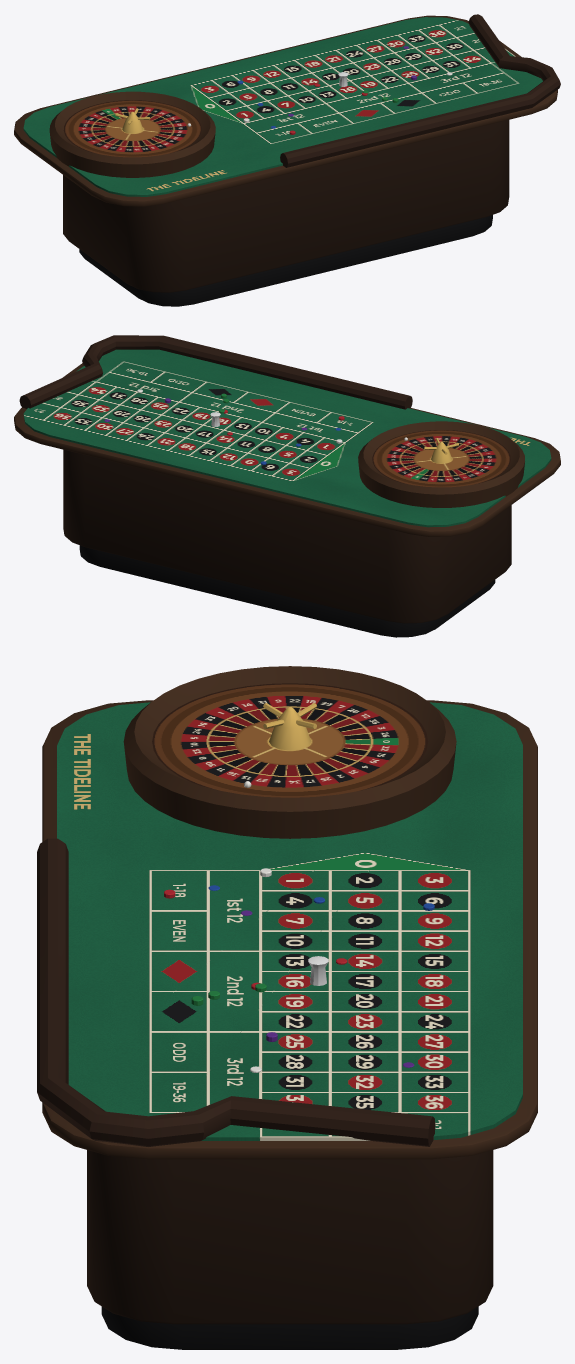
The model's file is tideline_roulette.glb.
The picture shows the model from 3 angles, top to bottom: view 1: azimuth 30°, elevation 25°; view 2: azimuth 150°, elevation 25°; view 3: azimuth 270°, elevation 25°; orthographic projection. The views are drawn at different scales.
Visible parts, largest first — view 1: tideline_roulette; view 2: tideline_roulette; view 3: tideline_roulette.
Boxes of the visible parts, <box> form: tideline_roulette: <box>14,14,560,306</box>; tideline_roulette: <box>14,335,560,637</box>; tideline_roulette: <box>37,666,537,1349</box>.
Size of the model in its own units: 3.01 by 1.01 by 1.42.
Materials: 13 (2 with a texture image).
